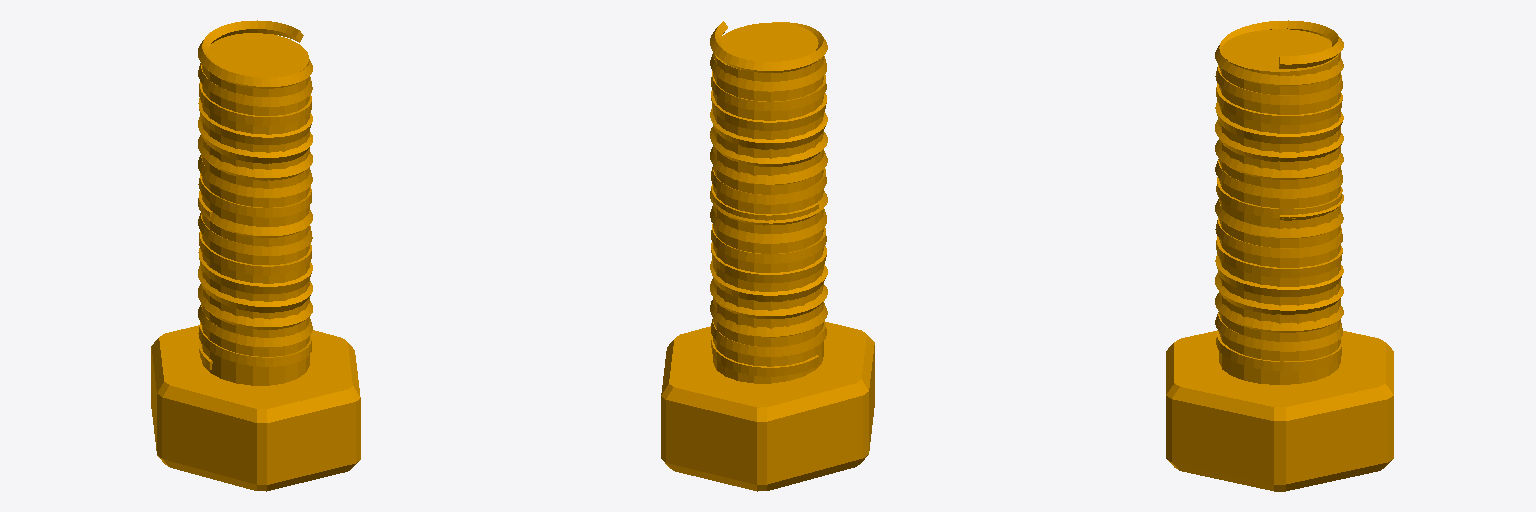
URDF robot description (single_screw):
<robot name="single_screw">
  <link name="single_screw">

    <!-- rosrun gazebo_ros spawn_model -file $(rospack find ur5_single_arm_tufts)/urdf/objects/table.urdf -urdf -x 0.5 -y -0 -z 0.75 -model table -->
    
    <inertial>
      <origin xyz="0.23 0 0.755" rpy="0 0 0" />
      <mass value="1"/>
      <inertia
        ixx="0.07" ixy="0.0" ixz="0.0"
        iyy="0.40" iyz="0.0"
        izz="0.33"/>
    </inertial>

    <visual>
      <geometry>
        <mesh filename="package://ur5_single_arm_tufts/urdf/objects/single_screw2.stl"/>
      </geometry>
    </visual>

    <collision>
      <geometry>
        <mesh filename="package://ur5_single_arm_tufts/urdf/objects/single_screw2.stl"/>
            <!--  scale = 0.025 -->
      </geometry>
    </collision>

  </link>

  <gazebo reference="single_screw">
    <material>Gazebo/Red</material>
  </gazebo> 

  <gazebo>
    <static>true</static>
  </gazebo>

</robot>

--- What the picture shows (computed from the rendered views, not written in the file) ---
Views: 3 orthographic renders of the robot side by side, from view 1: azimuth 30°, elevation 25°; view 2: azimuth 150°, elevation 25°; view 3: azimuth 270°, elevation 25°.
Robot: single_screw — 1 links, 0 joints (none); root link single_screw; default pose: every joint at zero.
Links seen in each view (by area): view 1: single_screw; view 2: single_screw; view 3: single_screw.
Boxes of the visible links, x1,y1,x2,y2 form: single_screw: (151, 20, 360, 491); single_screw: (661, 21, 874, 491); single_screw: (1166, 20, 1393, 491).
Bounding box of the posed robot: 0.03 × 0.03 × 0.06 m (x, y, z).
Meshes: 1 distinct files referenced, 1 mesh visuals loaded (1 binary STL).
